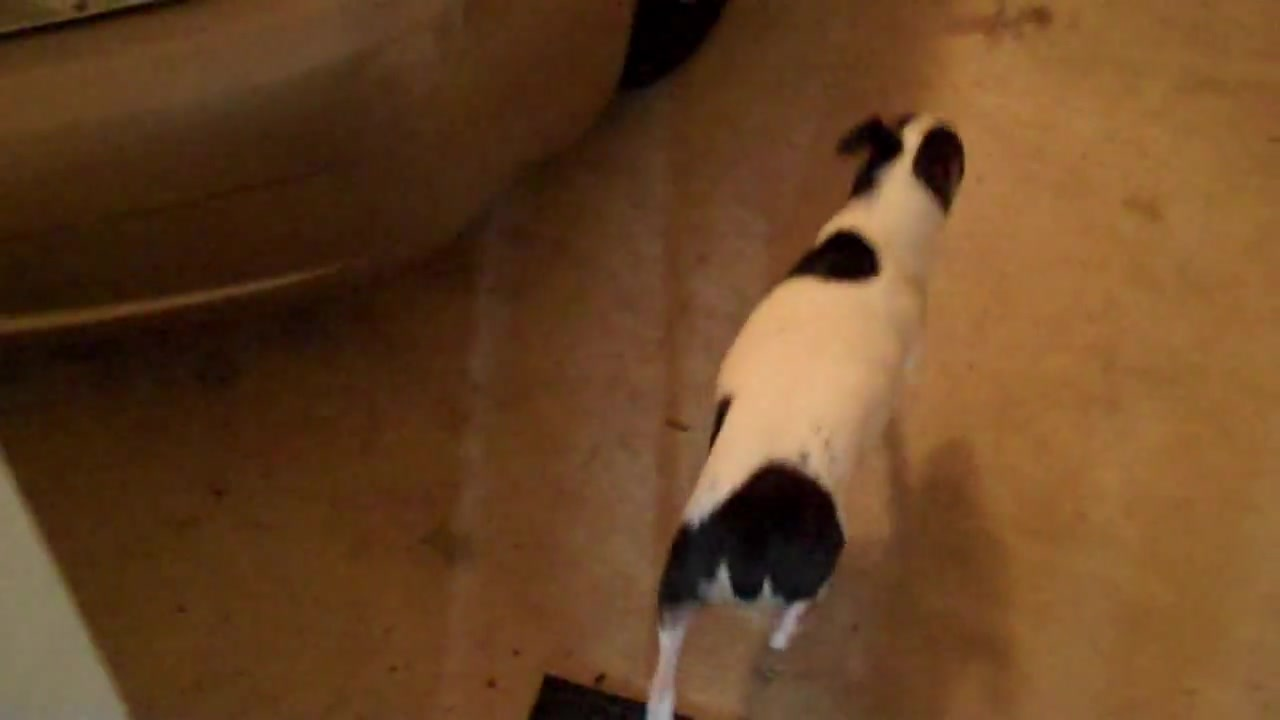dog: (643, 114, 966, 720)
